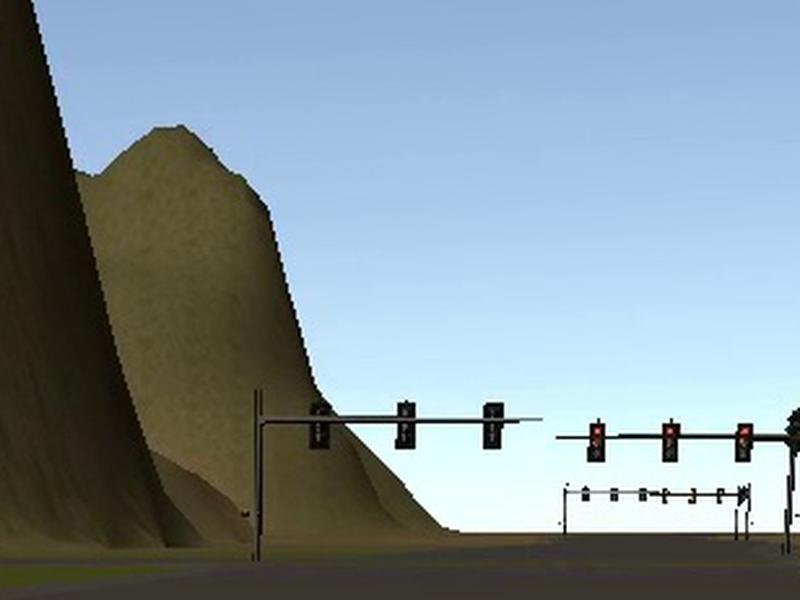Red: (735, 423, 755, 463), (662, 422, 680, 463), (588, 424, 605, 462)
